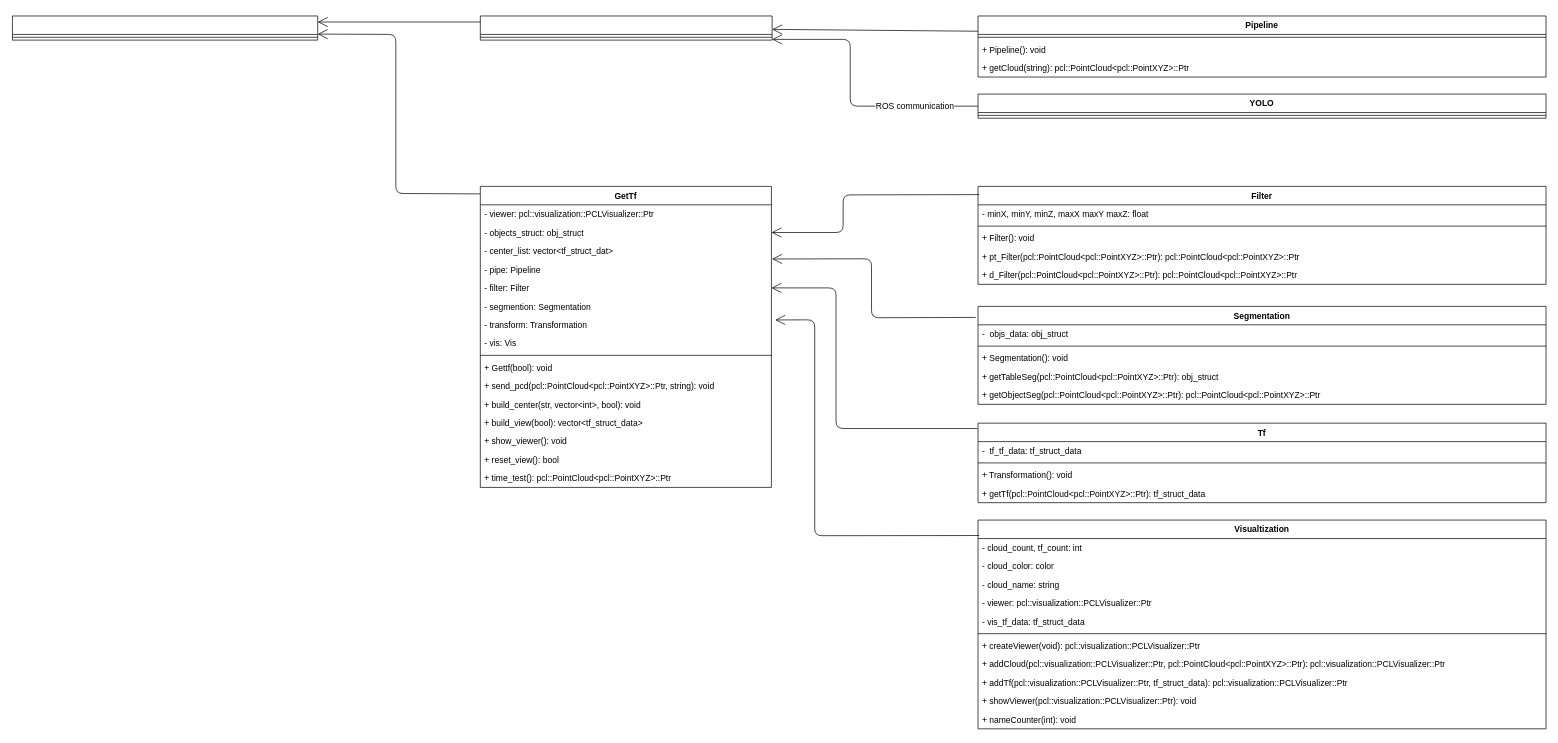
Some shapes in this 1558 by 743 pixel diagram are drawn without their labels. Here are the shapes that lost their labels. From the top down, the centre of each, then its label:
At (165,27): "Main".
At (626,27): "GetFrames".
